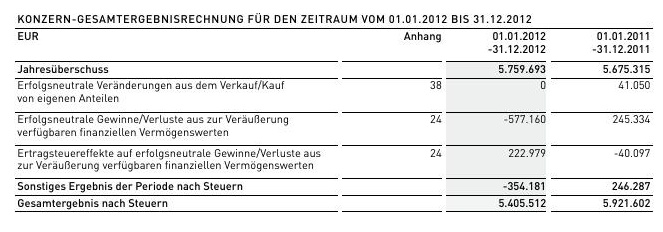table: (0, 0, 663, 232)
